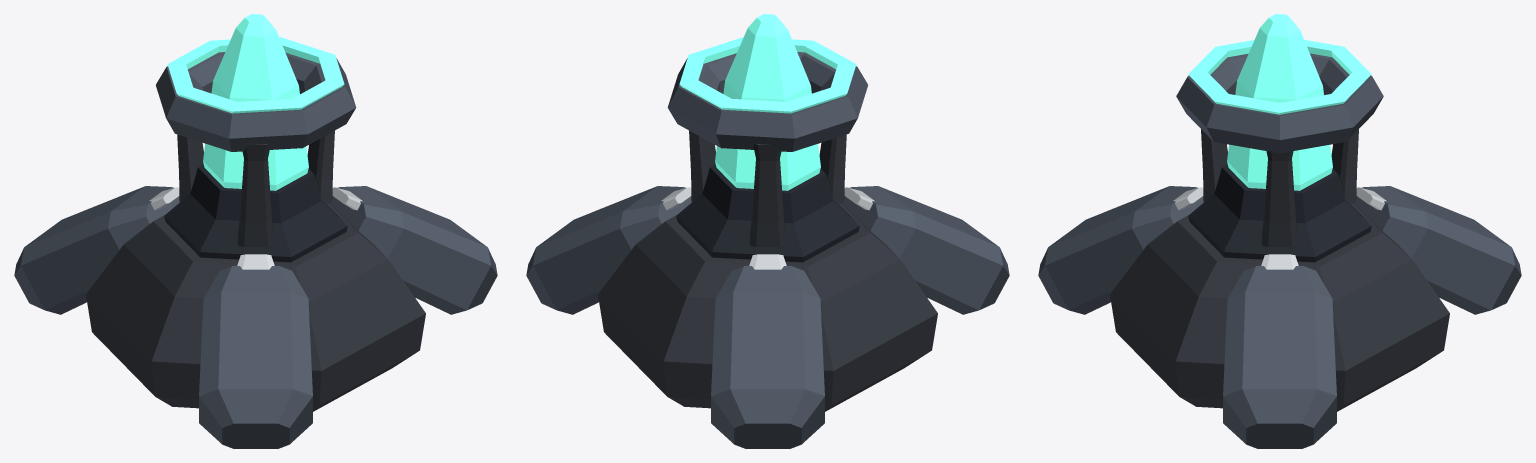
Rendered from Recall.fbx.
3 views of the same model, side by side, from view 1: azimuth 30°, elevation 25°; view 2: azimuth 150°, elevation 25°; view 3: azimuth 270°, elevation 25° (orthographic).
Parts seen in each view (by area): view 1: Base.001, Leg3, Leg1, Leg2, PhaseRing, CoreSeat, Core, PhaseInset, RingSupport3, RingSupport1, RingSupport2, LegInset3; view 2: Base.001, Leg2, Leg3, Leg1, PhaseRing, CoreSeat, Core, PhaseInset, RingSupport2, RingSupport3, RingSupport1, LegInset2; view 3: Base.001, Leg1, Leg2, Leg3, PhaseRing, CoreSeat, Core, PhaseInset, RingSupport1, RingSupport2, RingSupport3, LegInset1.
Part boxes in pixels (box(x1,y1,x2,y2)): Base.001: box(86, 203, 425, 411); Leg3: box(199, 266, 312, 448); Leg1: box(331, 186, 497, 314); Leg2: box(14, 186, 179, 314); PhaseRing: box(156, 52, 356, 151); CoreSeat: box(164, 164, 347, 262); Core: box(203, 14, 308, 190); PhaseInset: box(167, 36, 344, 113); RingSupport3: box(237, 143, 274, 246); RingSupport1: box(307, 130, 334, 203); RingSupport2: box(177, 134, 203, 202); LegInset3: box(237, 254, 274, 269); Base.001: box(598, 203, 937, 411); Leg2: box(711, 266, 824, 448); Leg3: box(843, 186, 1009, 314); Leg1: box(526, 186, 691, 314); PhaseRing: box(667, 52, 867, 151); CoreSeat: box(676, 164, 859, 262); Core: box(715, 14, 820, 190); PhaseInset: box(679, 37, 856, 113); RingSupport2: box(749, 143, 786, 246); RingSupport3: box(819, 134, 846, 203); RingSupport1: box(689, 130, 715, 202); LegInset2: box(749, 254, 786, 269); Base.001: box(1110, 203, 1449, 411); Leg1: box(1223, 266, 1336, 448); Leg2: box(1355, 186, 1521, 314); Leg3: box(1038, 186, 1203, 314); PhaseRing: box(1176, 53, 1383, 153); CoreSeat: box(1188, 164, 1371, 262); Core: box(1227, 14, 1332, 190); PhaseInset: box(1188, 39, 1371, 114); RingSupport1: box(1261, 151, 1298, 246); RingSupport2: box(1331, 129, 1358, 203); RingSupport3: box(1201, 129, 1227, 202); LegInset1: box(1261, 254, 1298, 269).
Bounding box in the file's own units: 0.8502 × 0.742 × 0.9493.
